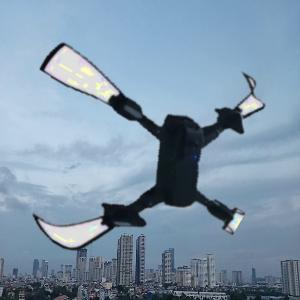drone: (11, 23, 265, 277)
